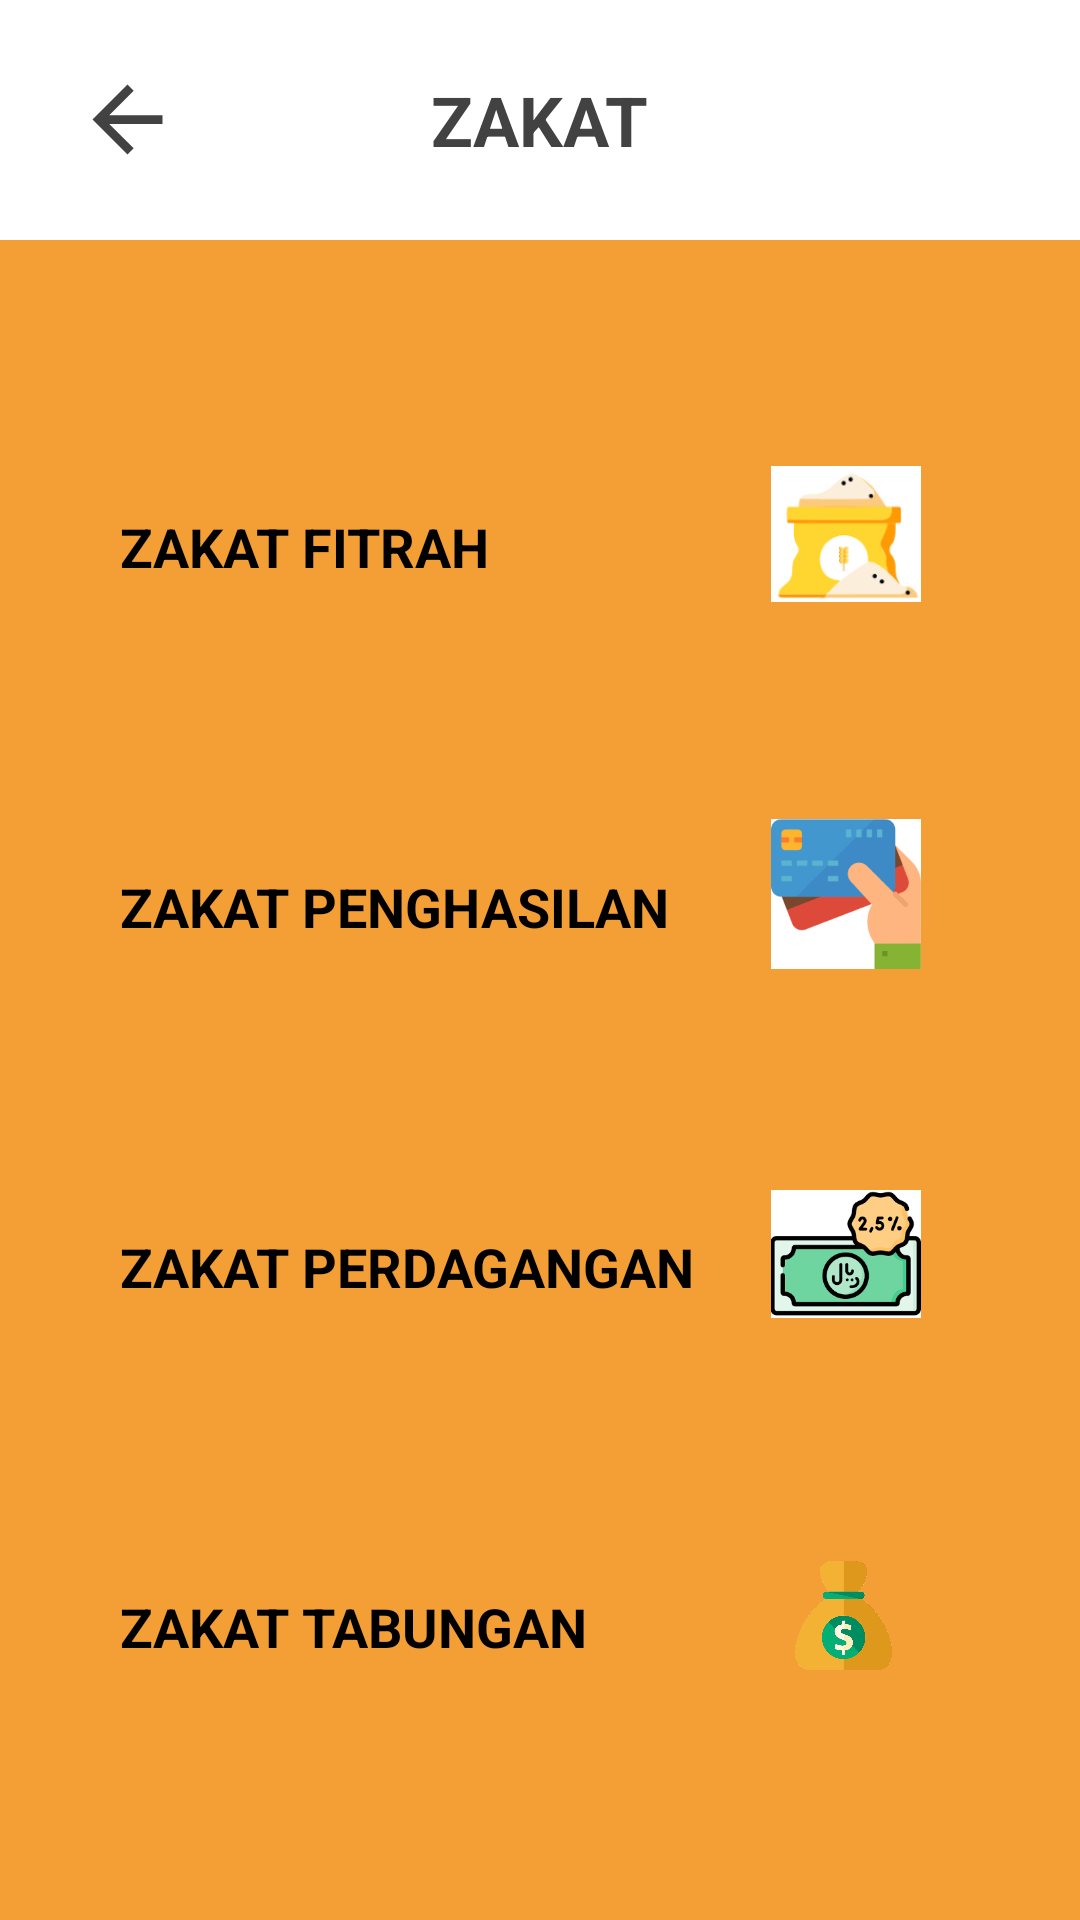

Icons on this 1080x1920 Android screen, each with the point to tap as (x=x, y=y):
kembaliicondark: (x=127, y=119)
